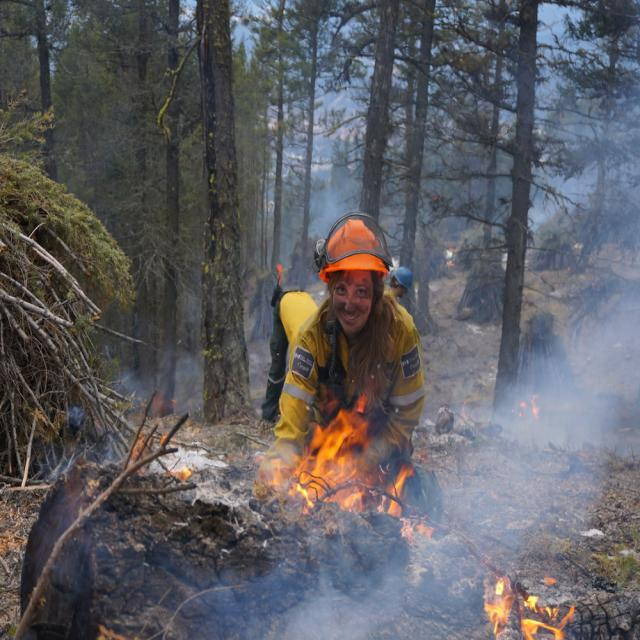Fire: (272, 410, 408, 532)
Smoke: (325, 304, 640, 626)
